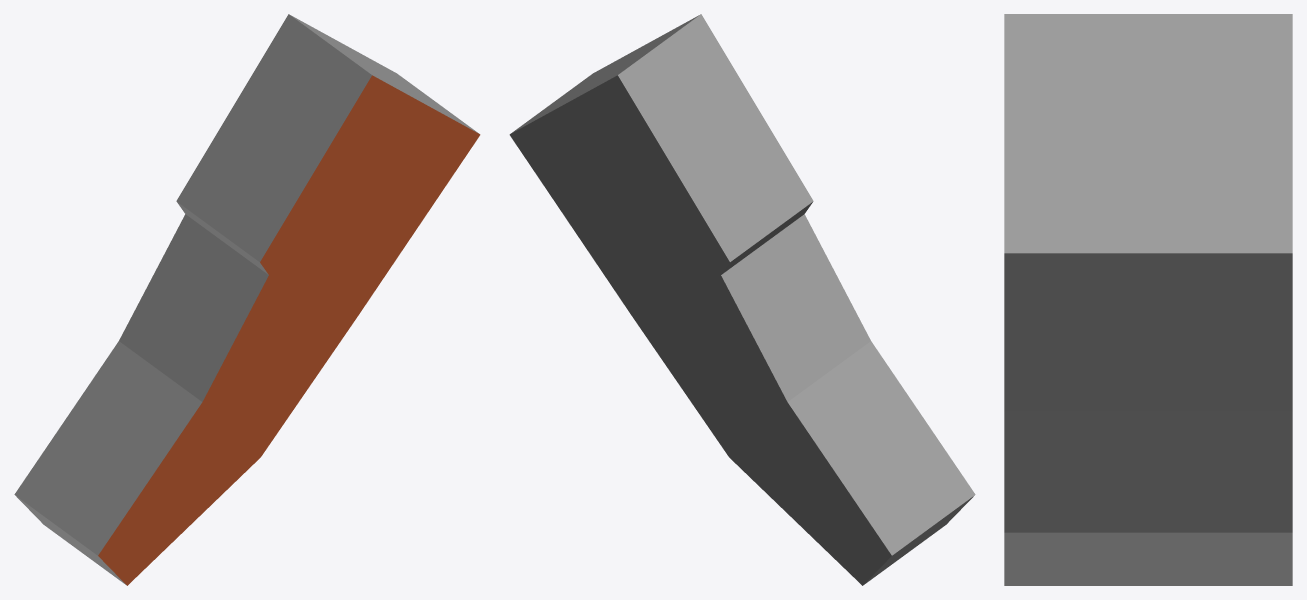
The model's file is construction_4124_assumed_A_Casa_h6m.obj.
3 views of the same model, side by side, from view 1: azimuth 30°, elevation 25°; view 2: azimuth 150°, elevation 25°; view 3: azimuth 270°, elevation 25° (orthographic). The views are drawn at different scales.
Visible parts, largest first — view 1: construction_4124_assumed_A_Casa; view 2: construction_4124_assumed_A_Casa; view 3: construction_4124_assumed_A_Casa.
Part boxes in pixels (x1,y1,x2,y2): construction_4124_assumed_A_Casa: [14, 14, 480, 585]; construction_4124_assumed_A_Casa: [509, 14, 975, 585]; construction_4124_assumed_A_Casa: [1004, 14, 1292, 585].
Size of the model in its own units: 15.85 by 17.86 by 6.
